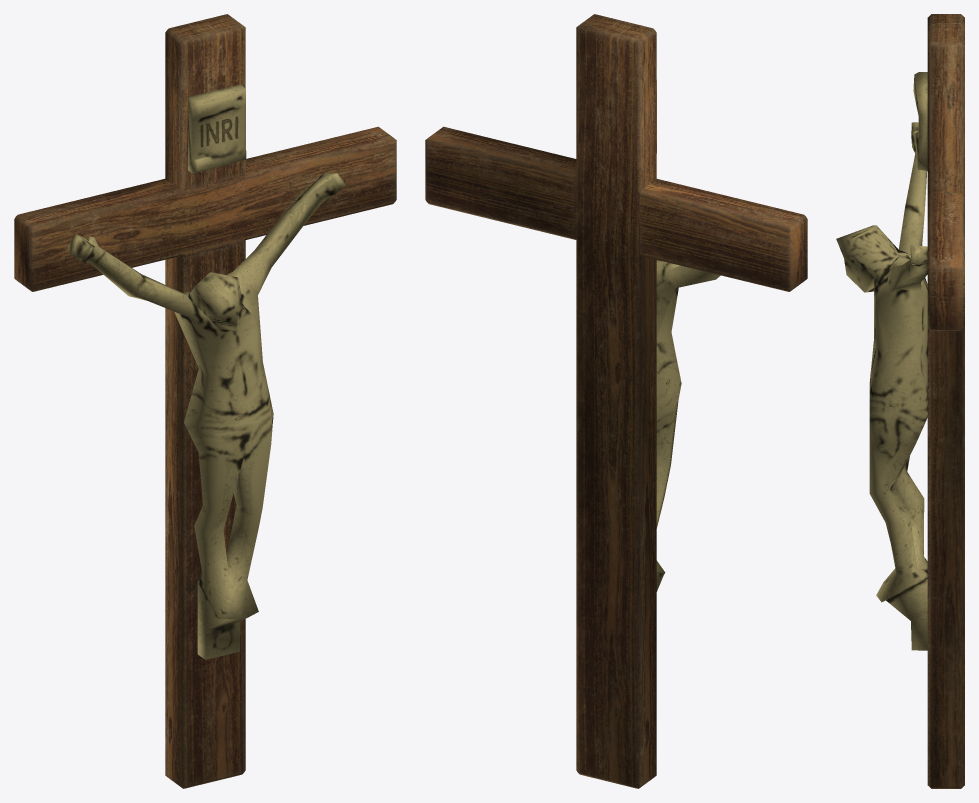
Rendered from crusifix2.glb.
3 renders of one model, left to right at view 1: azimuth 30°, elevation 25°; view 2: azimuth 150°, elevation 25°; view 3: azimuth 270°, elevation 25°, orthographic.
Parts seen in each view (by area): view 1: Crusifix2; view 2: Crusifix2; view 3: Crusifix2.
Part boxes in pixels (x1=…): Crusifix2: x1=14, y1=14, x2=396, y2=788; Crusifix2: x1=425, y1=14, x2=807, y2=788; Crusifix2: x1=836, y1=14, x2=964, y2=788.
Bounding box in the file's own units: 0.0788 × 0.1536 × 0.024.
1 material, 1 textured.
